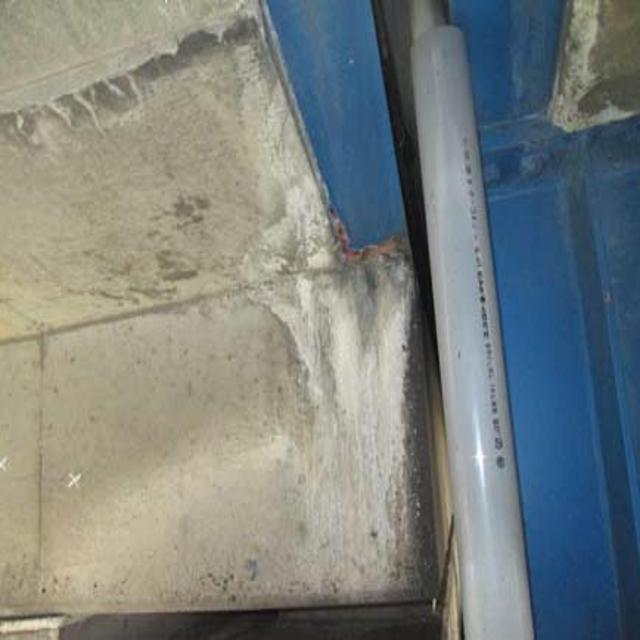corrosion: (321, 203, 406, 274)
freelime: (279, 302, 397, 468), (558, 15, 636, 138)
